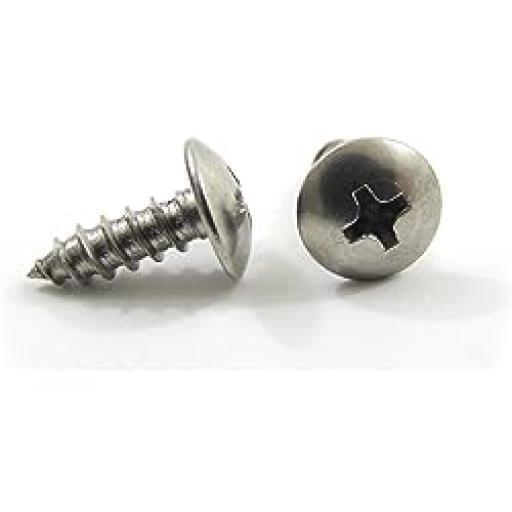Phillips: (297, 132, 442, 282)
